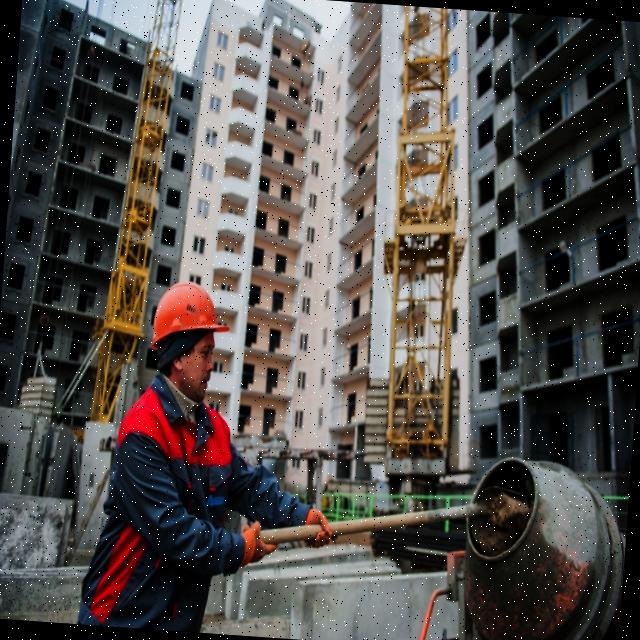Helmet: (152, 280, 234, 351)
NoJacket: (112, 387, 229, 631)
